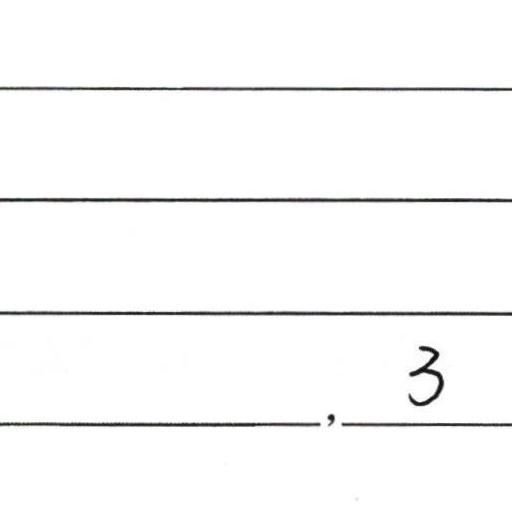ans: (403, 339, 448, 409)
